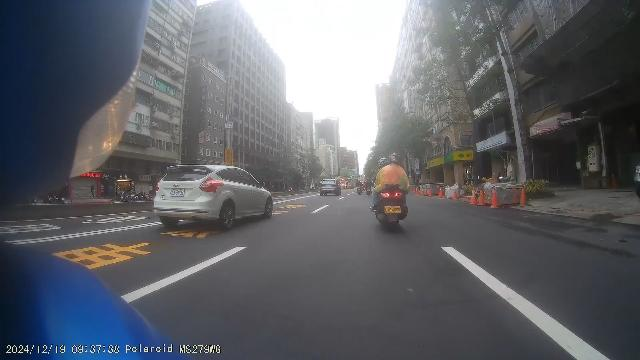plate: (384, 206, 401, 213), (170, 189, 184, 196)
